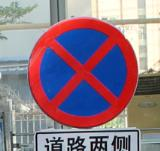No Parking: (27, 19, 140, 131)
